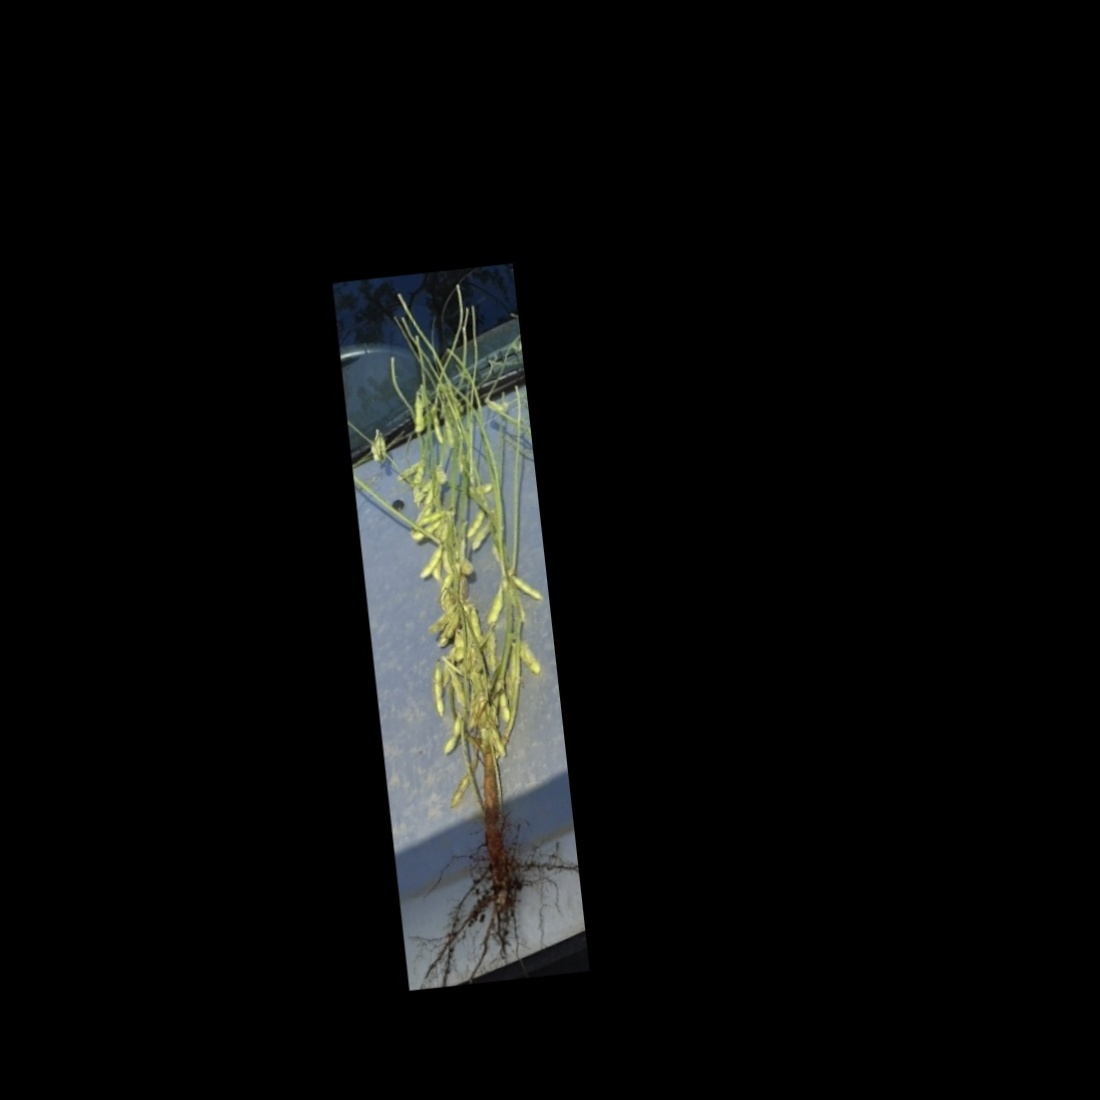pod: (480, 580, 510, 631), (428, 659, 450, 722), (434, 717, 466, 761), (444, 771, 475, 811), (415, 545, 448, 581), (407, 395, 428, 436), (462, 509, 487, 540)
soy: (343, 319, 582, 960)
